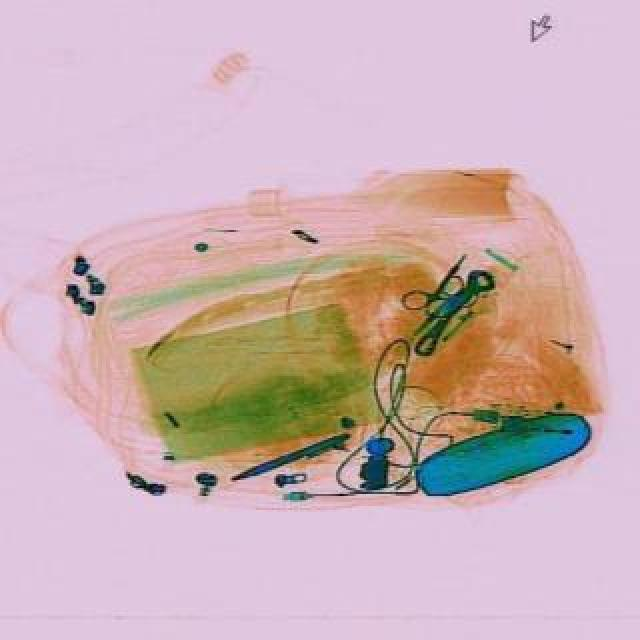pliers: (396, 238, 486, 330)
